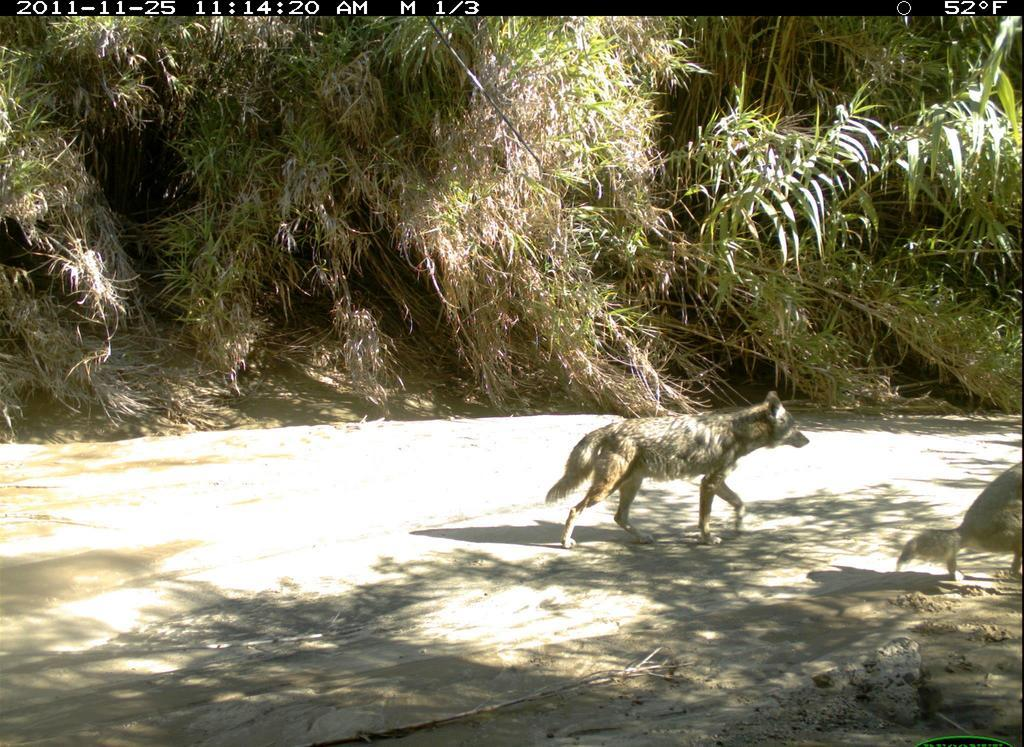coyote: (538, 386, 820, 557), (890, 443, 1022, 624)
